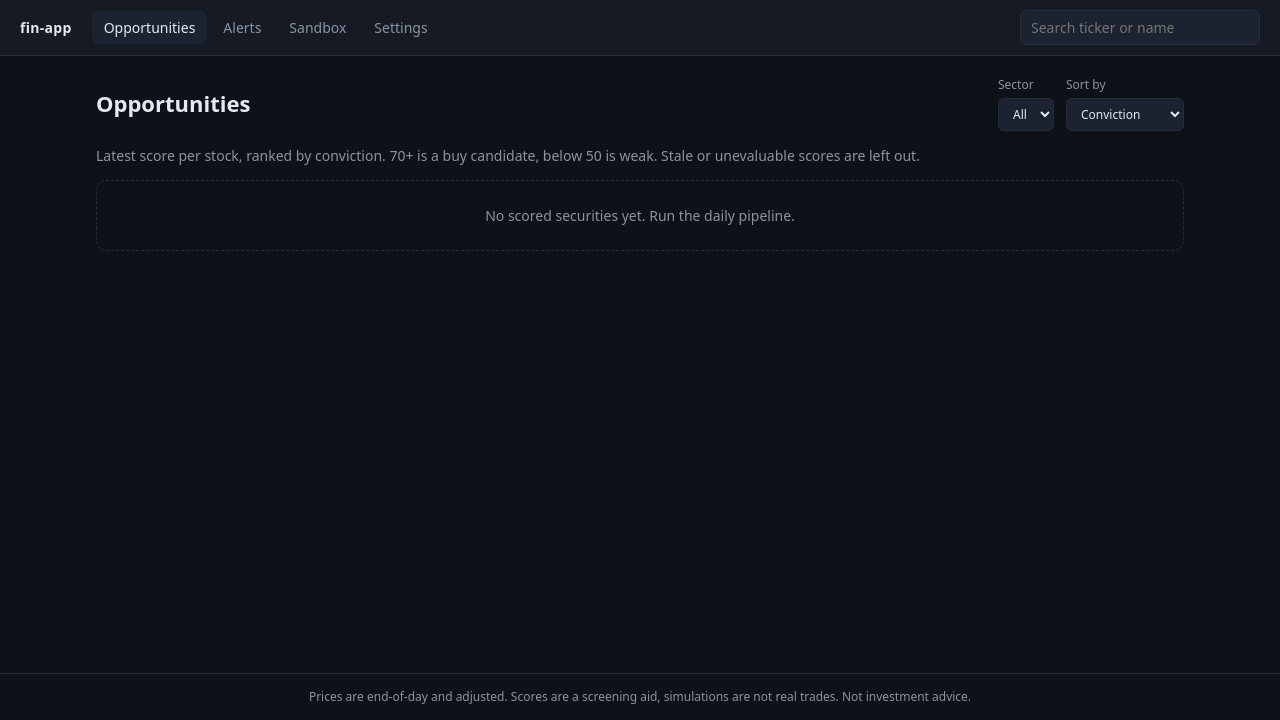
Scenario: the search box finds a security and opens its page
Type "acm" into the search field named "Search securities" at (1140, 28), box [1020,10,1260,45]
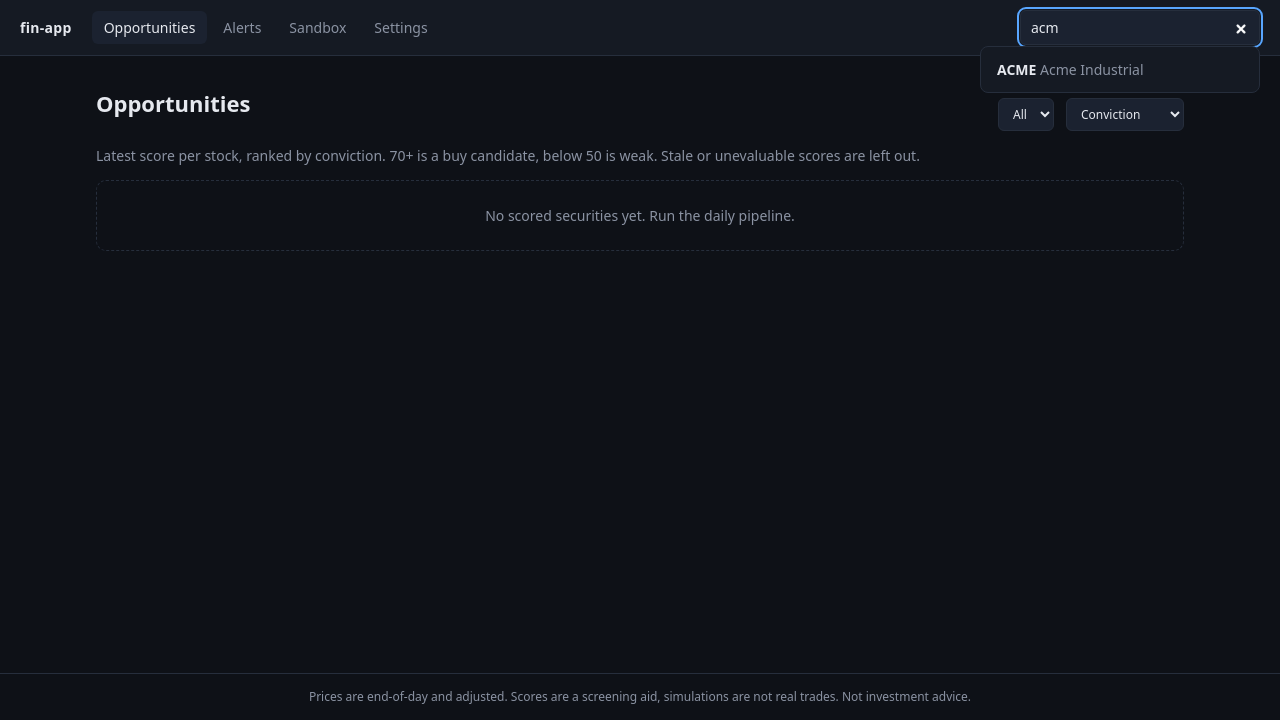
Click the button "ACME Acme Industrial" at (1120, 70), box [993,55,1247,84]
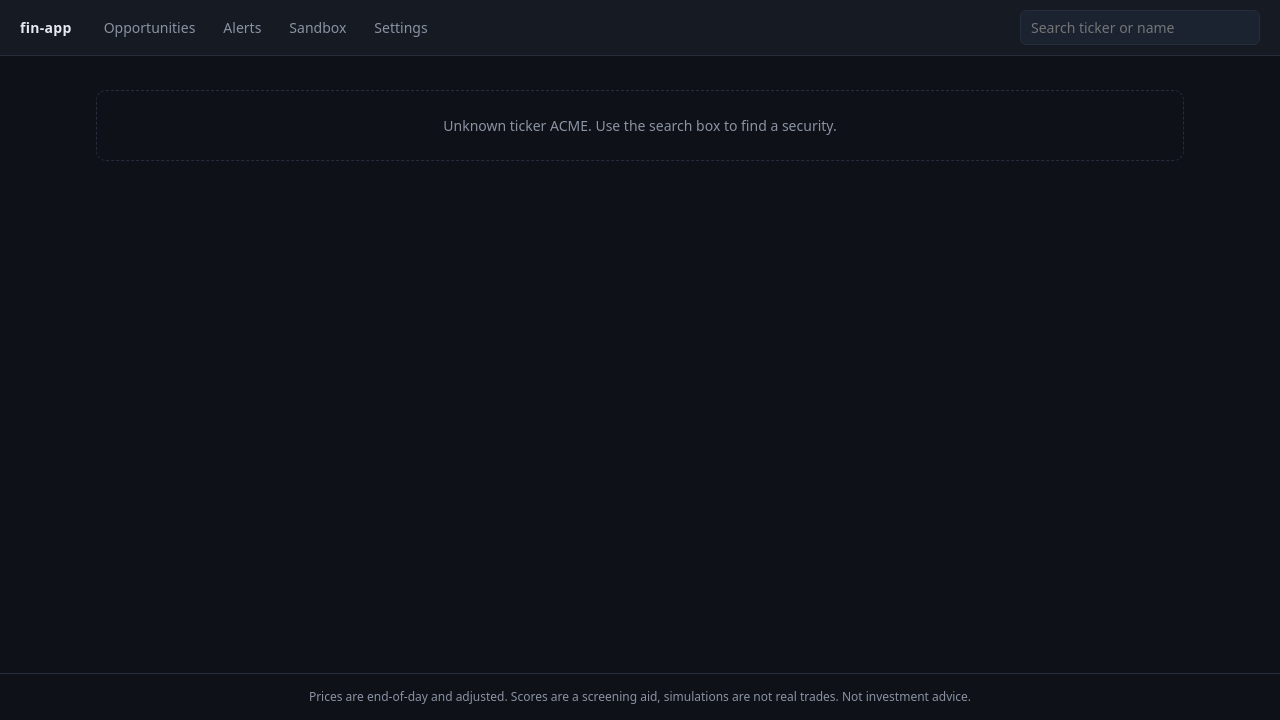
Expected: the list is gone
Expected: the search field named "Search securities" is empty, [1020,10,1260,45]
Expected: the text "Unknown ticker ACME. Use the search box to find a security." is shown, [96,90,1184,161]
